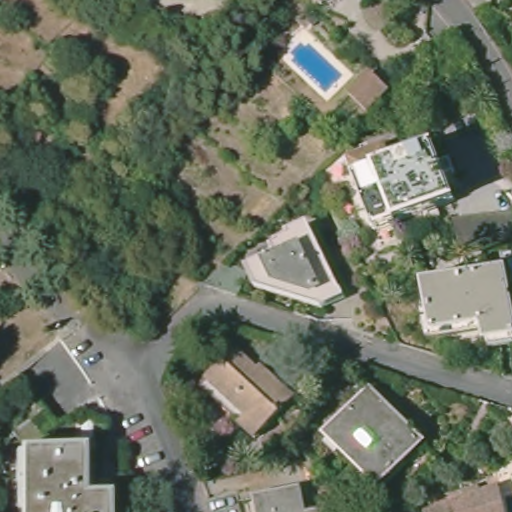pool: (289, 41, 344, 91)
